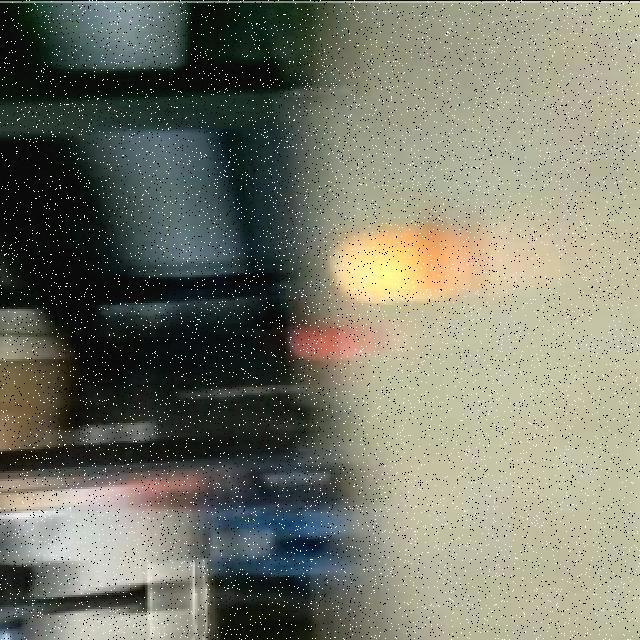ping-pong-ball: (331, 219, 468, 304), (282, 321, 347, 360)
